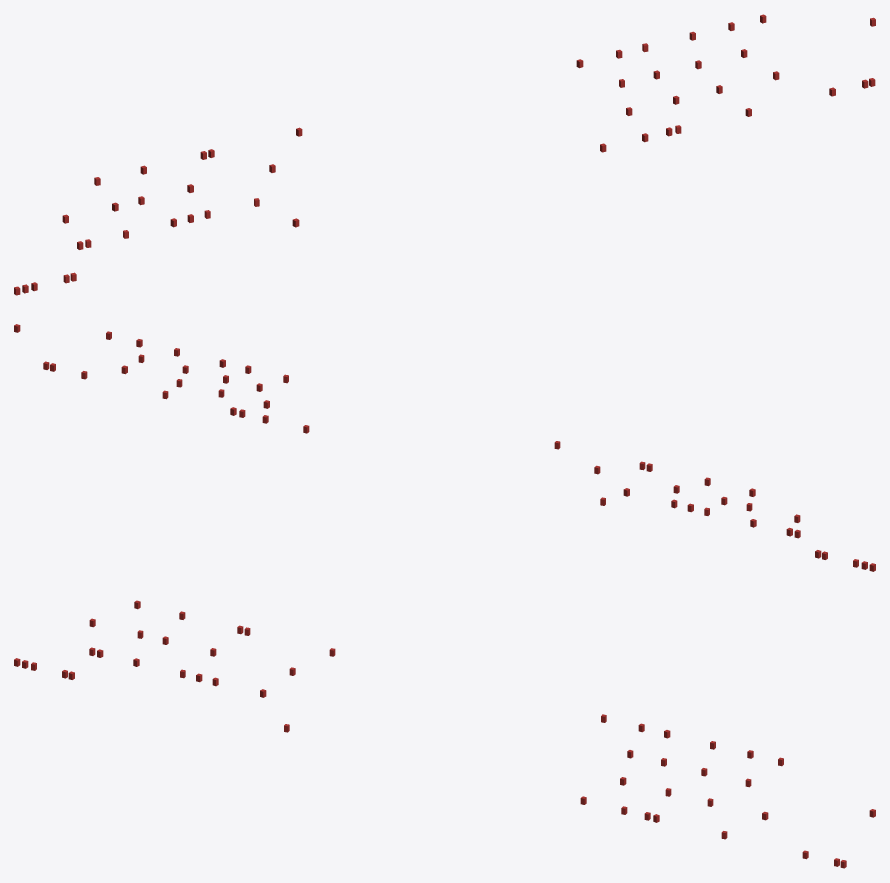
The model's file is CrowdFar_CrowdRed.fbx.
3 views of the same model, one above another, from view 1: azimuth 30°, elevation 25°; view 2: azimuth 150°, elevation 25°; view 3: azimuth 330°, elevation 25° (orthographic). The views are drawn at different scales.
Parts seen in each view (by area): view 1: FanFar4.001; view 2: FanFar4.001; view 3: FanFar4.001.
Part boxes in pixels (x1,y1,x2,y2): FanFar4.001: [14, 14, 875, 295]; FanFar4.001: [14, 324, 875, 571]; FanFar4.001: [14, 600, 875, 868].
Bounding box in the file's own units: 24074 × 1970 × 1177.
